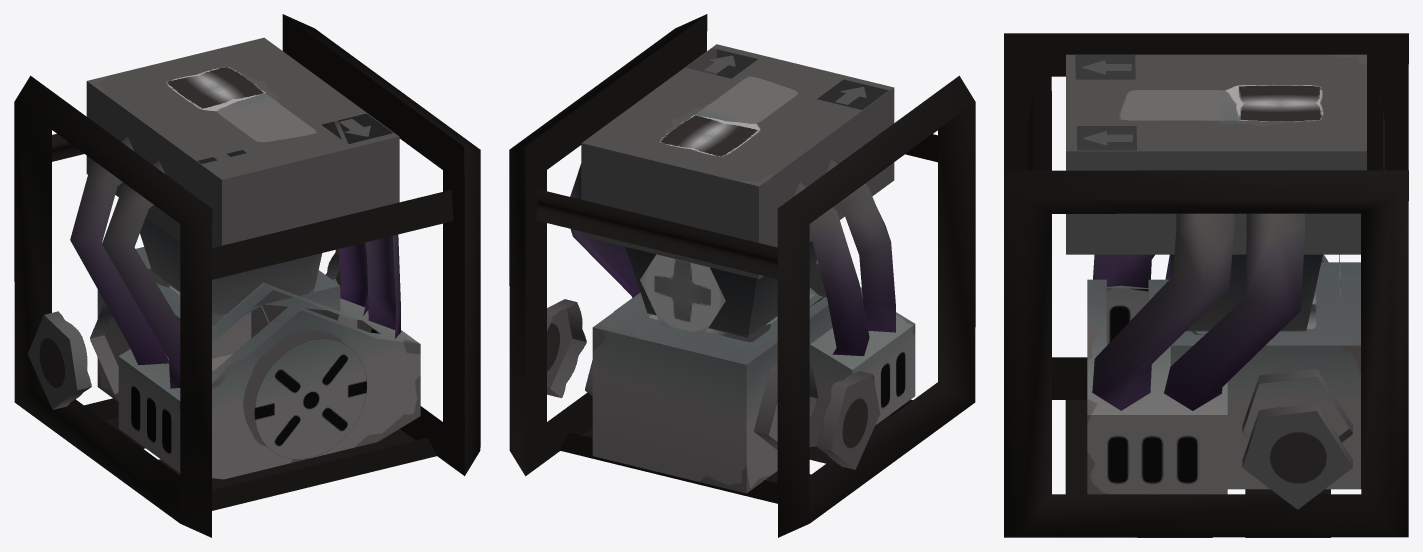
Rendered from obj_interactive_gasengine_01_off_lod1.fbx.
3 renders of one model, left to right at view 1: azimuth 30°, elevation 25°; view 2: azimuth 150°, elevation 25°; view 3: azimuth 270°, elevation 25°, orthographic. The views are drawn at different scales.
Visible parts, largest first — view 1: obj_interactive_gasengine_01_off_lod1; view 2: obj_interactive_gasengine_01_off_lod1; view 3: obj_interactive_gasengine_01_off_lod1.
Part boxes in pixels (x1=…): obj_interactive_gasengine_01_off_lod1: x1=14, y1=14, x2=480, y2=537; obj_interactive_gasengine_01_off_lod1: x1=509, y1=14, x2=975, y2=537; obj_interactive_gasengine_01_off_lod1: x1=1004, y1=33, x2=1408, y2=537.
Size of the model in its own units: 2 by 2.35 by 2.04.
